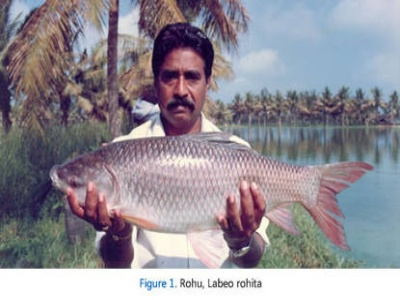rohu: (21, 131, 381, 255)
